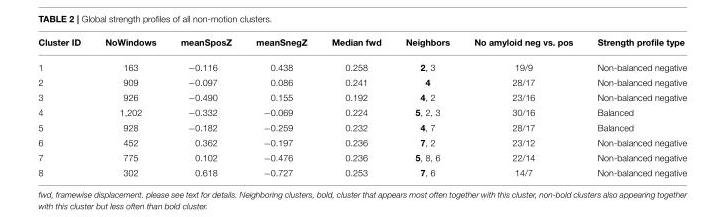table: (37, 37, 686, 177)
table column: (461, 37, 584, 177), (584, 37, 686, 177), (167, 37, 243, 177), (92, 37, 167, 177), (243, 37, 318, 177), (318, 37, 392, 177), (392, 37, 461, 177), (37, 37, 92, 177)
table column header: (37, 37, 686, 54)
table row: (37, 54, 686, 74), (37, 37, 686, 54), (37, 89, 686, 105), (37, 74, 686, 89), (37, 105, 686, 120), (37, 120, 686, 135), (37, 135, 686, 150), (37, 150, 686, 165), (37, 165, 686, 177)
